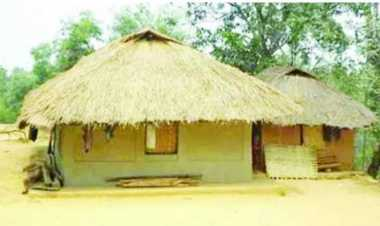Mud House: (24, 32, 267, 196), (235, 57, 373, 187)
